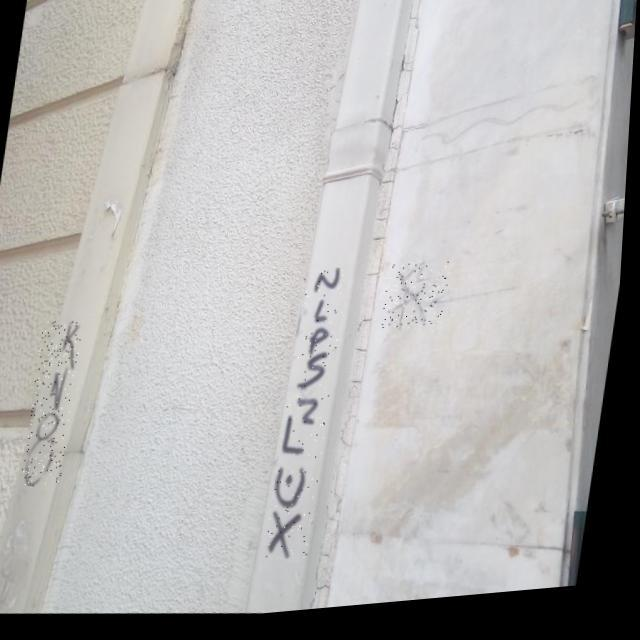-: (270, 270, 352, 568), (26, 318, 88, 490), (382, 264, 454, 340)
